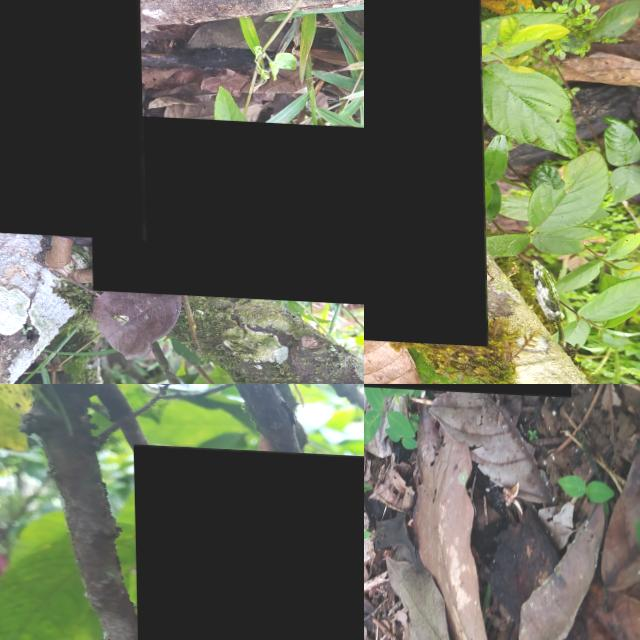Fitoftora: (364, 0, 486, 341), (0, 0, 143, 236)
Monilia: (88, 110, 364, 300), (133, 442, 364, 640)
